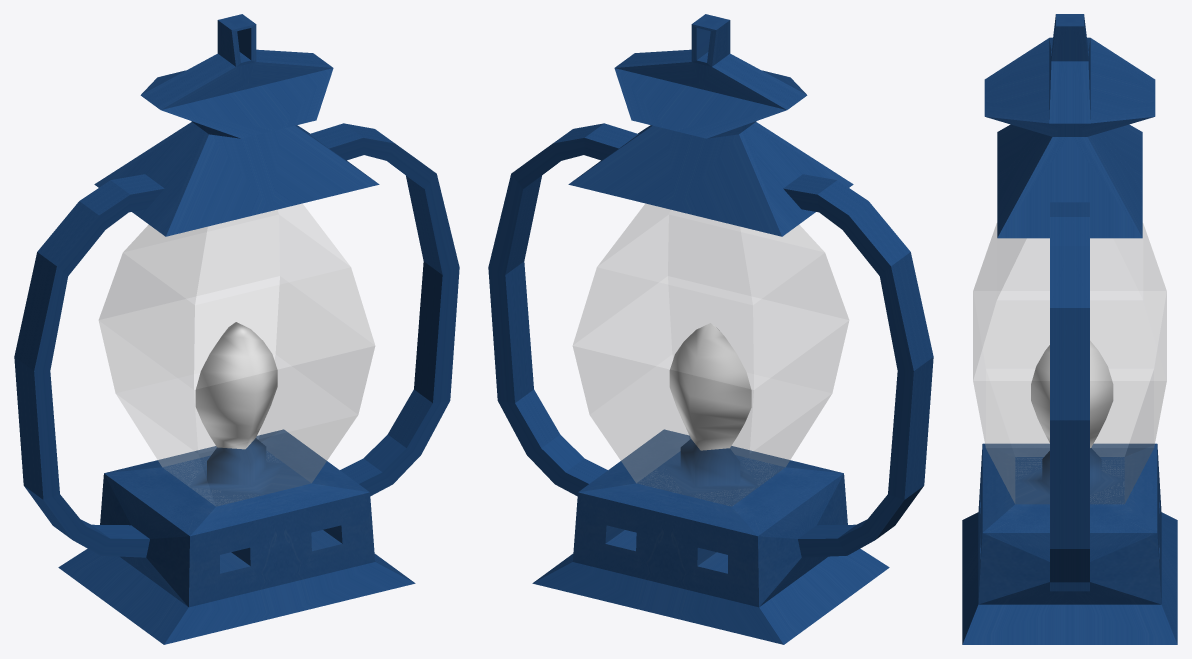
Rendered from MaterialLamp.fbx.
The picture shows the model from 3 angles, left to right: view 1: azimuth 30°, elevation 25°; view 2: azimuth 150°, elevation 25°; view 3: azimuth 270°, elevation 25°; orthographic projection.
Parts seen in each view (by area): view 1: Lamp; view 2: Lamp; view 3: Lamp.
Boxes of the visible parts, x1=… form: Lamp: x1=14, y1=14, x2=459, y2=644; Lamp: x1=488, y1=14, x2=933, y2=644; Lamp: x1=962, y1=14, x2=1177, y2=644.
Bounding box in the file's own units: 285 × 355 × 123.
